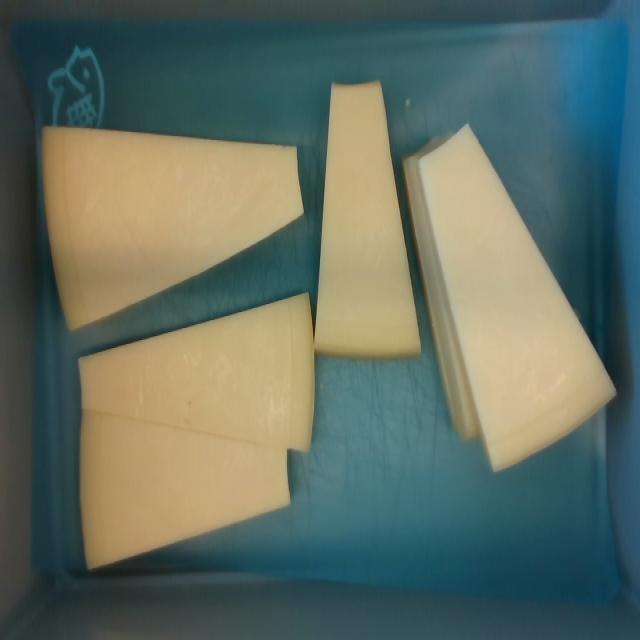Cheese: (417, 125, 613, 468), (44, 128, 302, 328), (81, 295, 314, 445), (81, 419, 288, 565), (318, 83, 416, 355)
